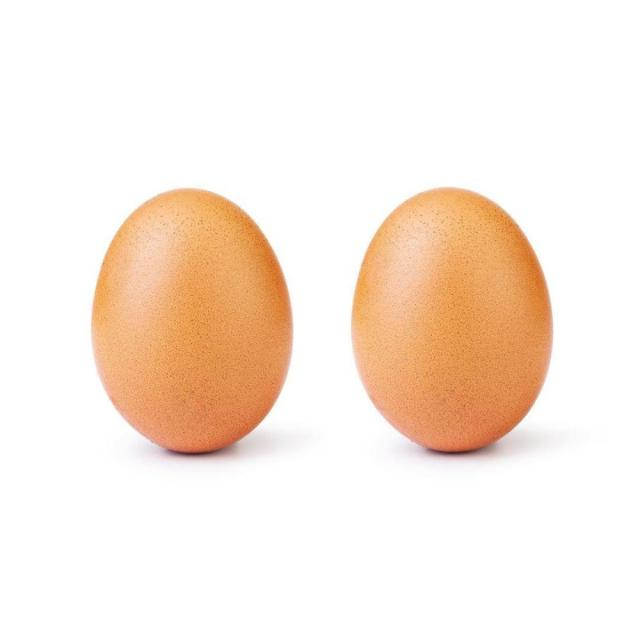egg: (87, 182, 298, 459), (349, 183, 556, 459)
